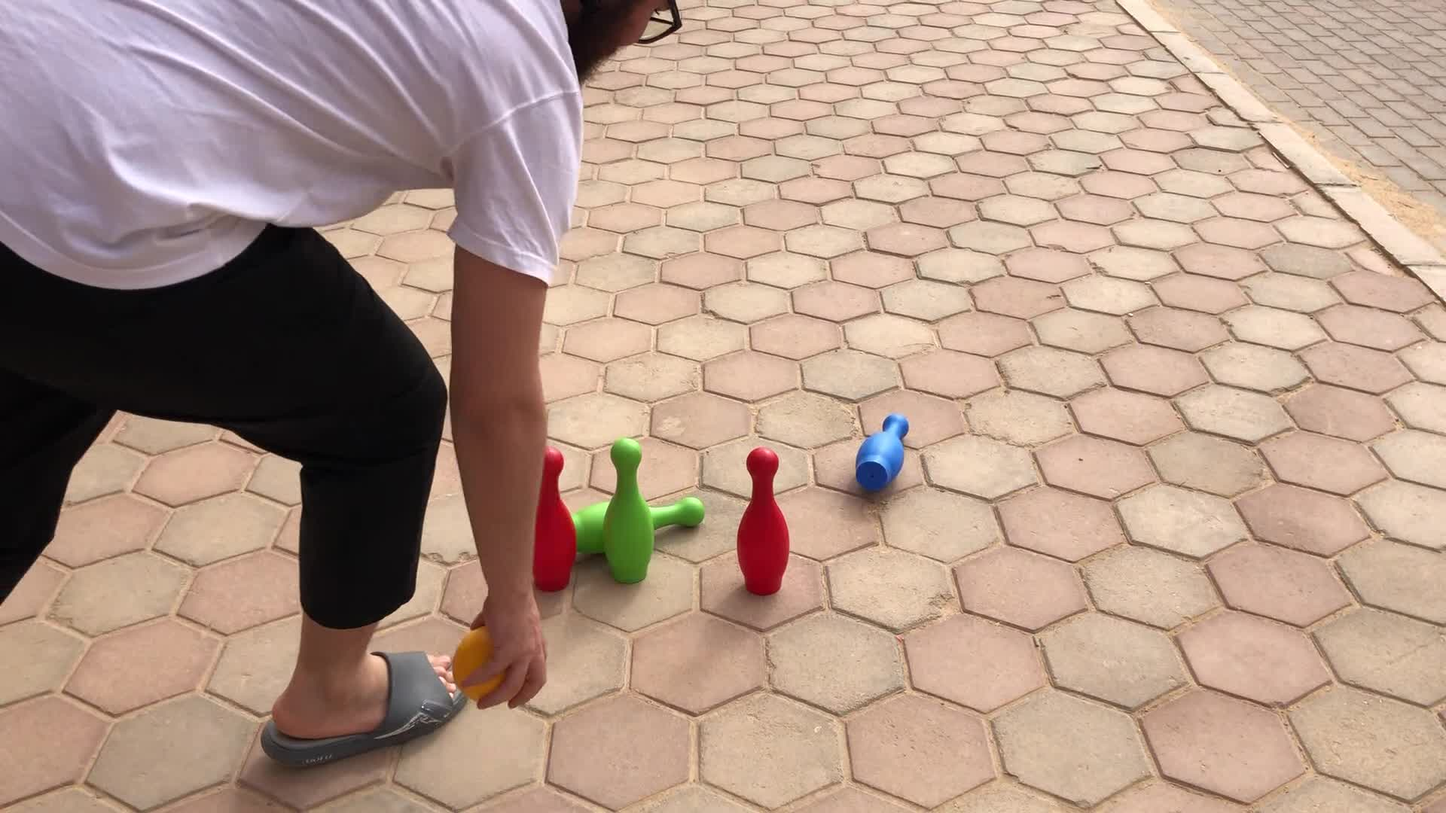bowling-pin: (738, 448, 790, 595), (604, 437, 654, 583), (856, 413, 909, 496), (477, 624, 527, 696), (553, 498, 578, 593), (574, 502, 608, 553), (651, 498, 704, 528)
